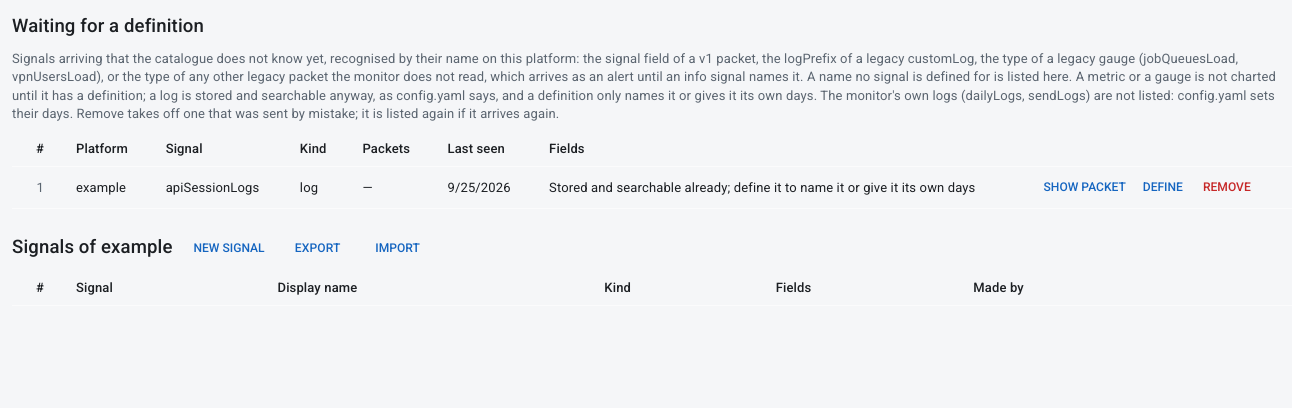
Test: SignalsPage › defines a log kind with its own days
Click the button "Define": click(1163, 188) [1131,173,1195,202]
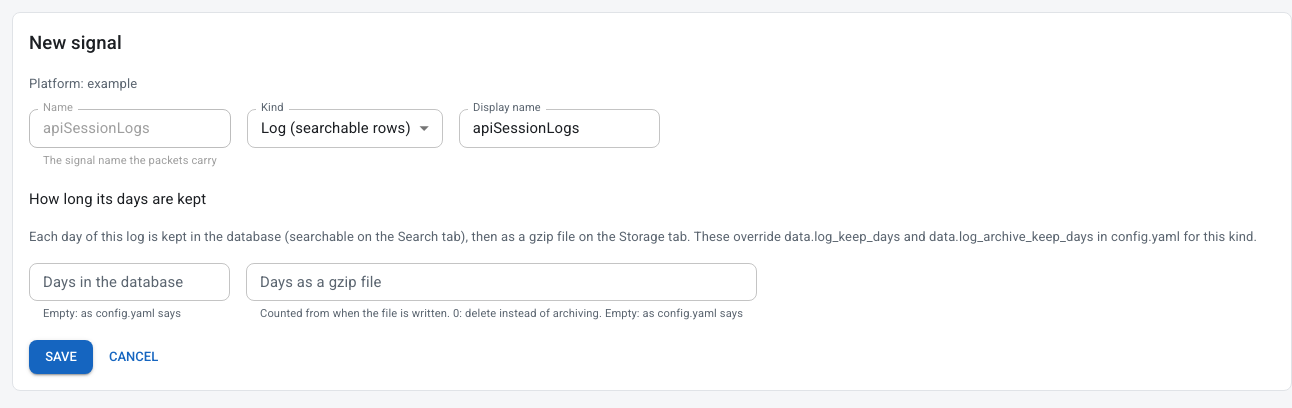
Result: the heading "How long its days are kept" is shown at [29,190,206,208]
Replace the text in the field labelled "Display name" with "API sessions": (559, 128) [459,109,660,148]
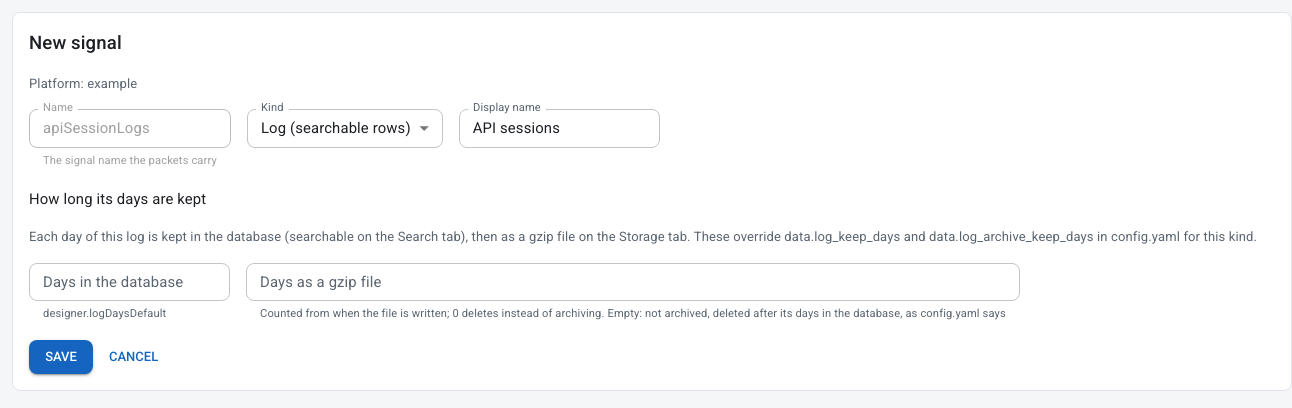
In the number field labelled "Days in the database": (130, 282) [29,263,230,301], type "5"
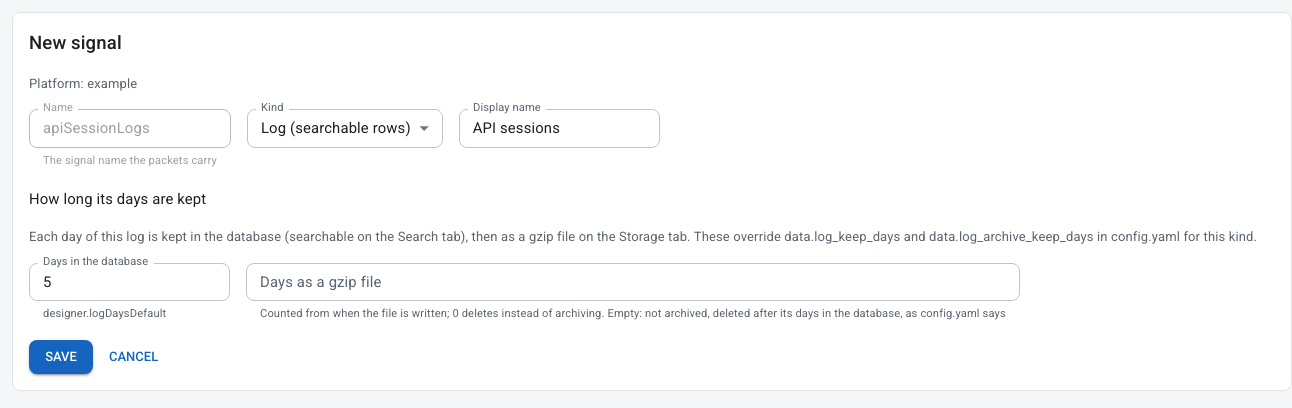
Click the button "Save": click(61, 357) [29,340,93,374]
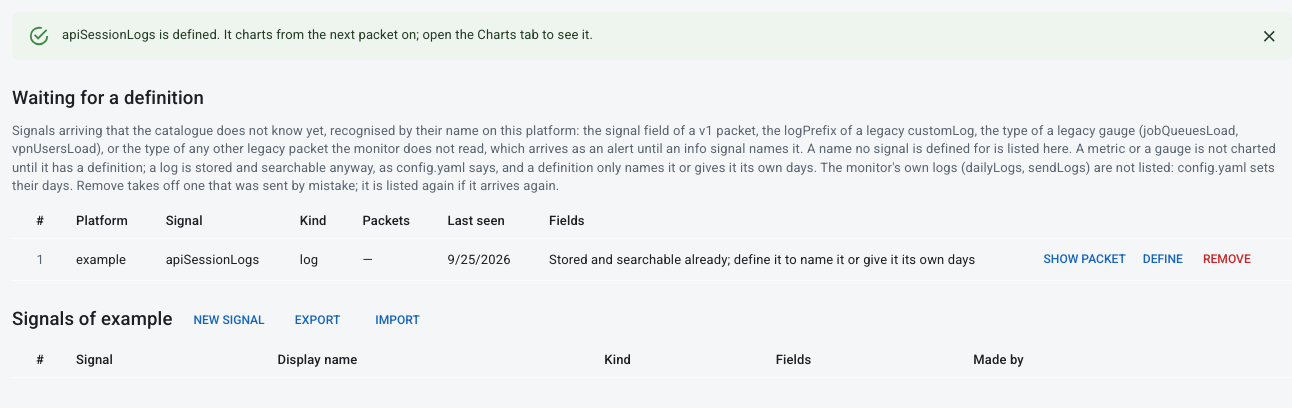
Result: the cell "log" is shown at [284,239,346,281]
